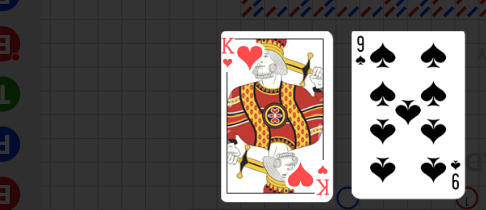9S: (355, 35, 368, 68)
KH: (222, 36, 236, 70)
